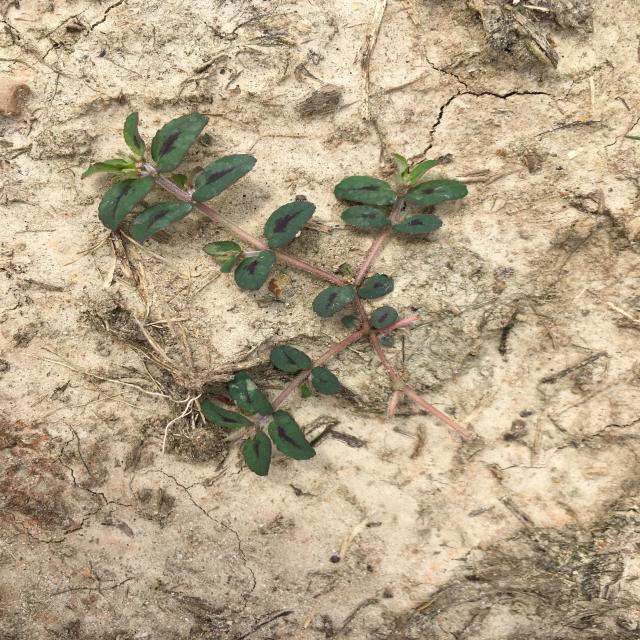SpottedSpurge: (80, 111, 472, 476)
